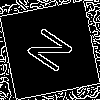N: (25, 25, 83, 81)
